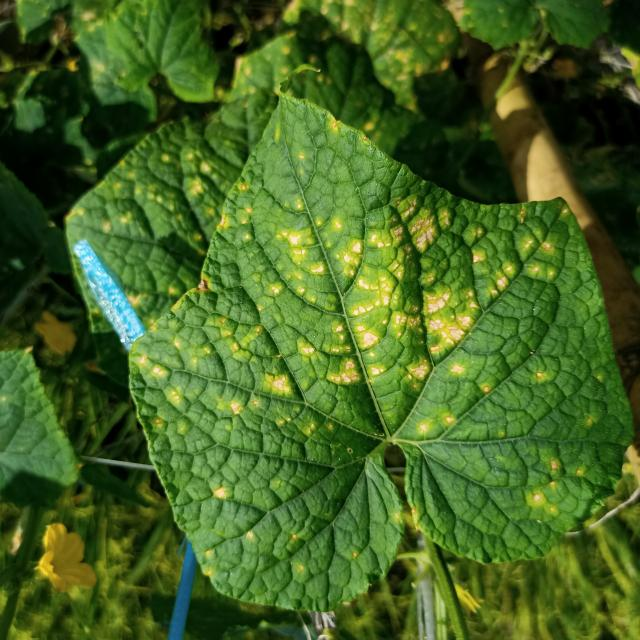disease_cucumber: (141, 127, 601, 579)
